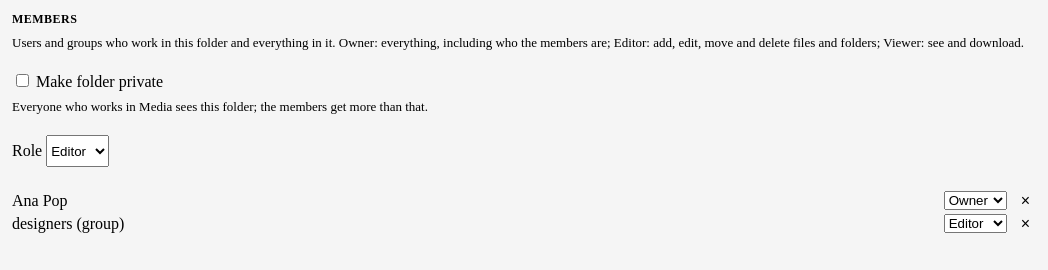
Test: the members of a Media folder › change a role, remove a member and make the folder private, at once
Expected: the text "Ana Pop" is shown, [12,192,68,208]
Expected: the text "(group)" is shown, [72,214,124,232]
Select "Viewer" in the dropdown named "Role of designers": (975, 224) [944,214,1007,233]
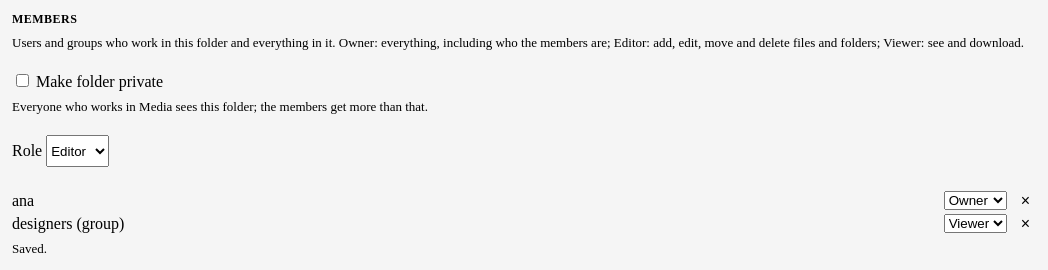
Click the button named "Remove designers": (1025, 224) [1015,214,1036,232]
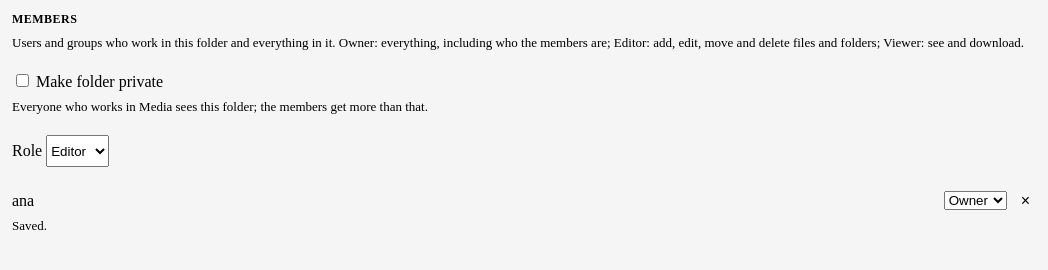
Click the checkbox labelled "Make folder private": (22, 80) [16,74,29,87]
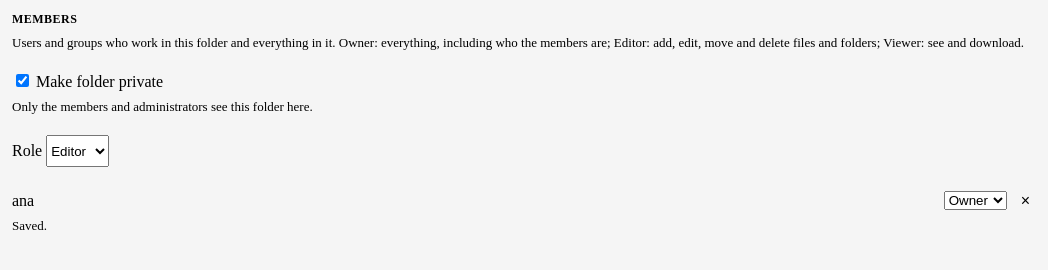
Result: the text "Only the members and administrators see this folder here." is shown at [12,99,313,114]
